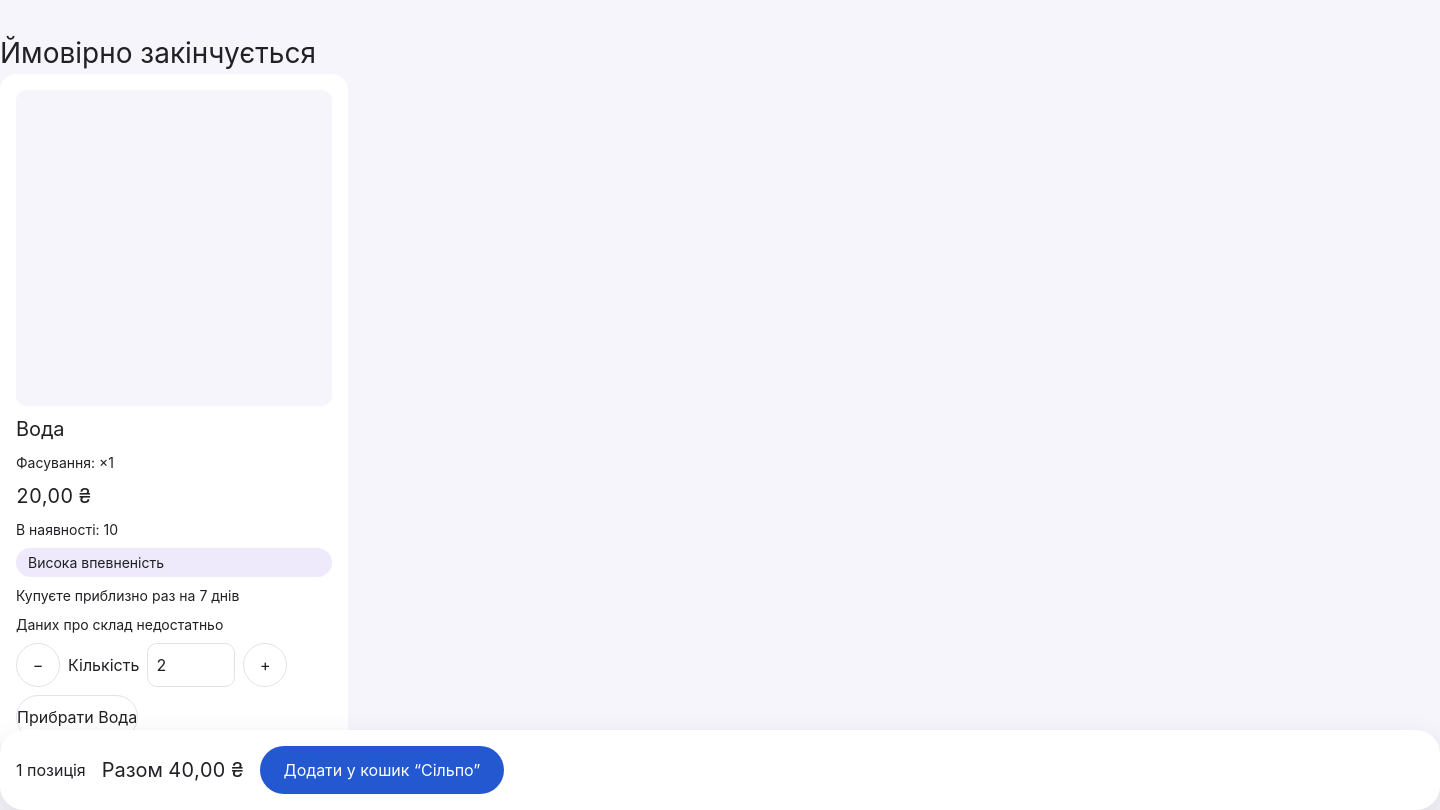
Scenario: DraftEditor › T15-07 exposes no confirmation action when every row is removed
Click the button "Прибрати Вода" at [77, 717], box top-left (16, 695), bottom-right (138, 739)
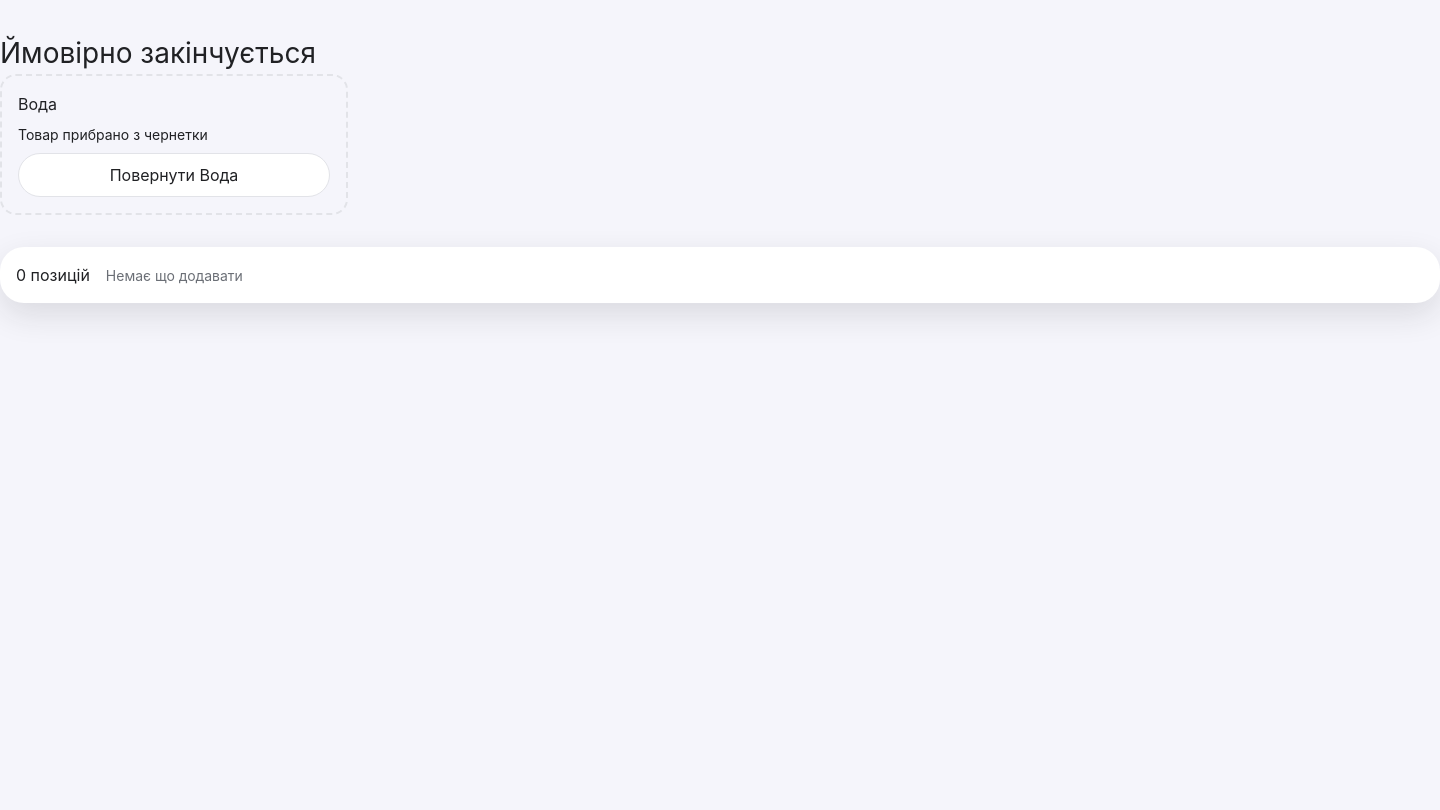
Now the text "Немає що додавати" is shown, box top-left (106, 264), bottom-right (243, 286)
Now the button "Додати у кошик “Сільпо”" is gone
Now the button "Повернути Вода" is enabled, box top-left (18, 153), bottom-right (330, 197)
